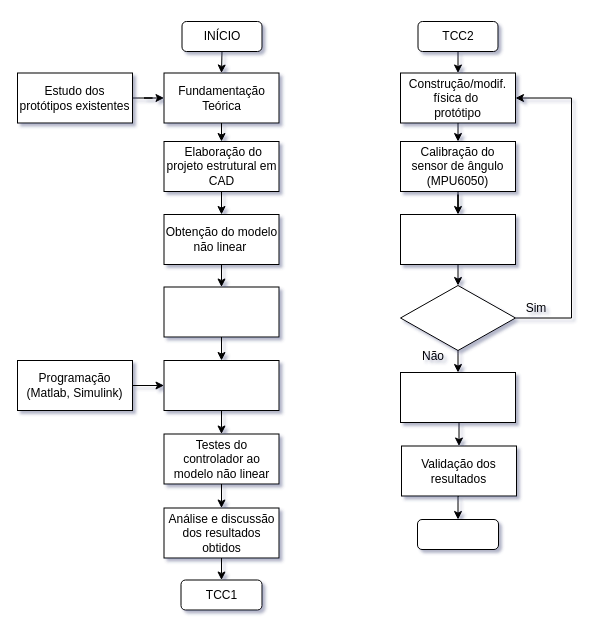
Image size: 603x633. Some labels were removed from this diagram. The shapes that lost their labels are listed below. From the top down, each one's centre as x and y in pixels, then its label:
At (x=458, y=239): "Validação do modelo matemático".
At (x=221, y=311): "Linearização e discretização do modelo".
At (x=458, y=317): "Problemas mecânicos?".
At (x=221, y=385): "Projeto do controlador LQG (LQR e LQE)".
At (x=458, y=397): "Implementação do controle embarcado".
At (x=457, y=534): "FIM".
